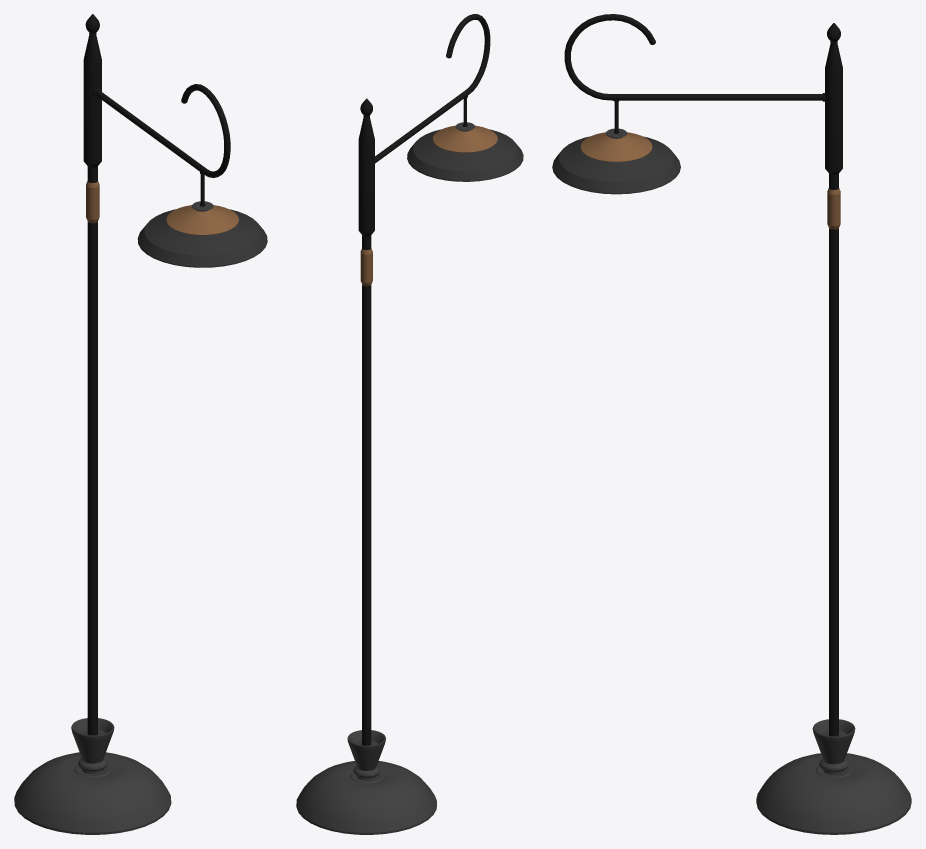
The model's file is StreetLight2.fbx.
The picture shows the model from 3 angles, left to right: view 1: azimuth 30°, elevation 25°; view 2: azimuth 150°, elevation 25°; view 3: azimuth 270°, elevation 25°; orthographic projection. The views are drawn at different scales.
Parts seen in each view (by area): view 1: StreetLight; view 2: StreetLight; view 3: StreetLight.
Part boxes in pixels (<box>): StreetLight: <box>14,14,267,834</box>; StreetLight: <box>296,14,523,834</box>; StreetLight: <box>552,14,911,834</box>.
Bounding box in the file's own units: 352 × 1966 × 813.
